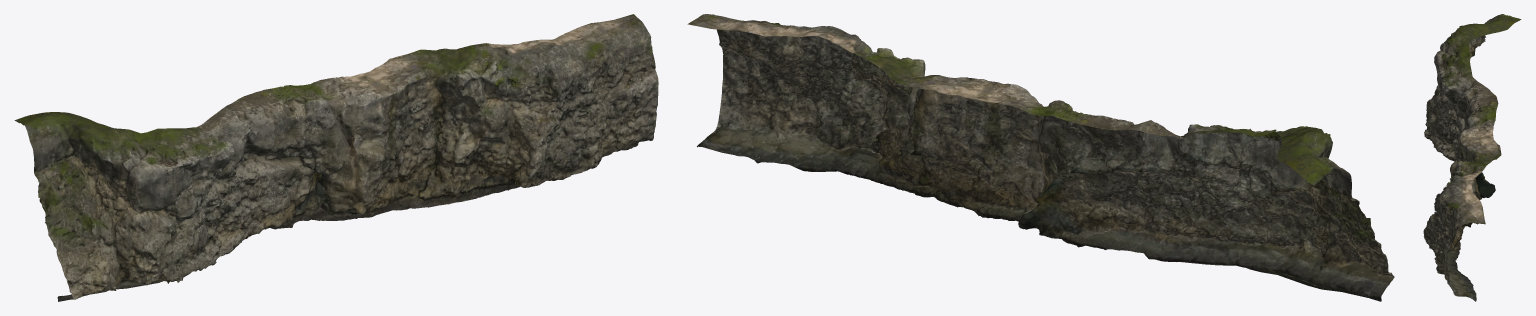
Rendered from coastal_cliff_02.glb.
3 renders of one model, left to right at view 1: azimuth 30°, elevation 25°; view 2: azimuth 150°, elevation 25°; view 3: azimuth 270°, elevation 25°, orthographic. The views are drawn at different scales.
Parts seen in each view (by area): view 1: coastal_cliff_02_LOD0; view 2: coastal_cliff_02_LOD0; view 3: coastal_cliff_02_LOD0.
Boxes of the visible parts, left/top/right/bottom form: coastal_cliff_02_LOD0: left=14, top=14, right=658, bottom=301; coastal_cliff_02_LOD0: left=687, top=14, right=1394, bottom=301; coastal_cliff_02_LOD0: left=1423, top=14, right=1521, bottom=301.
Size of the model in its own units: 40.93 by 10.05 by 8.65.
Materials: 1 (1 with a texture image).
